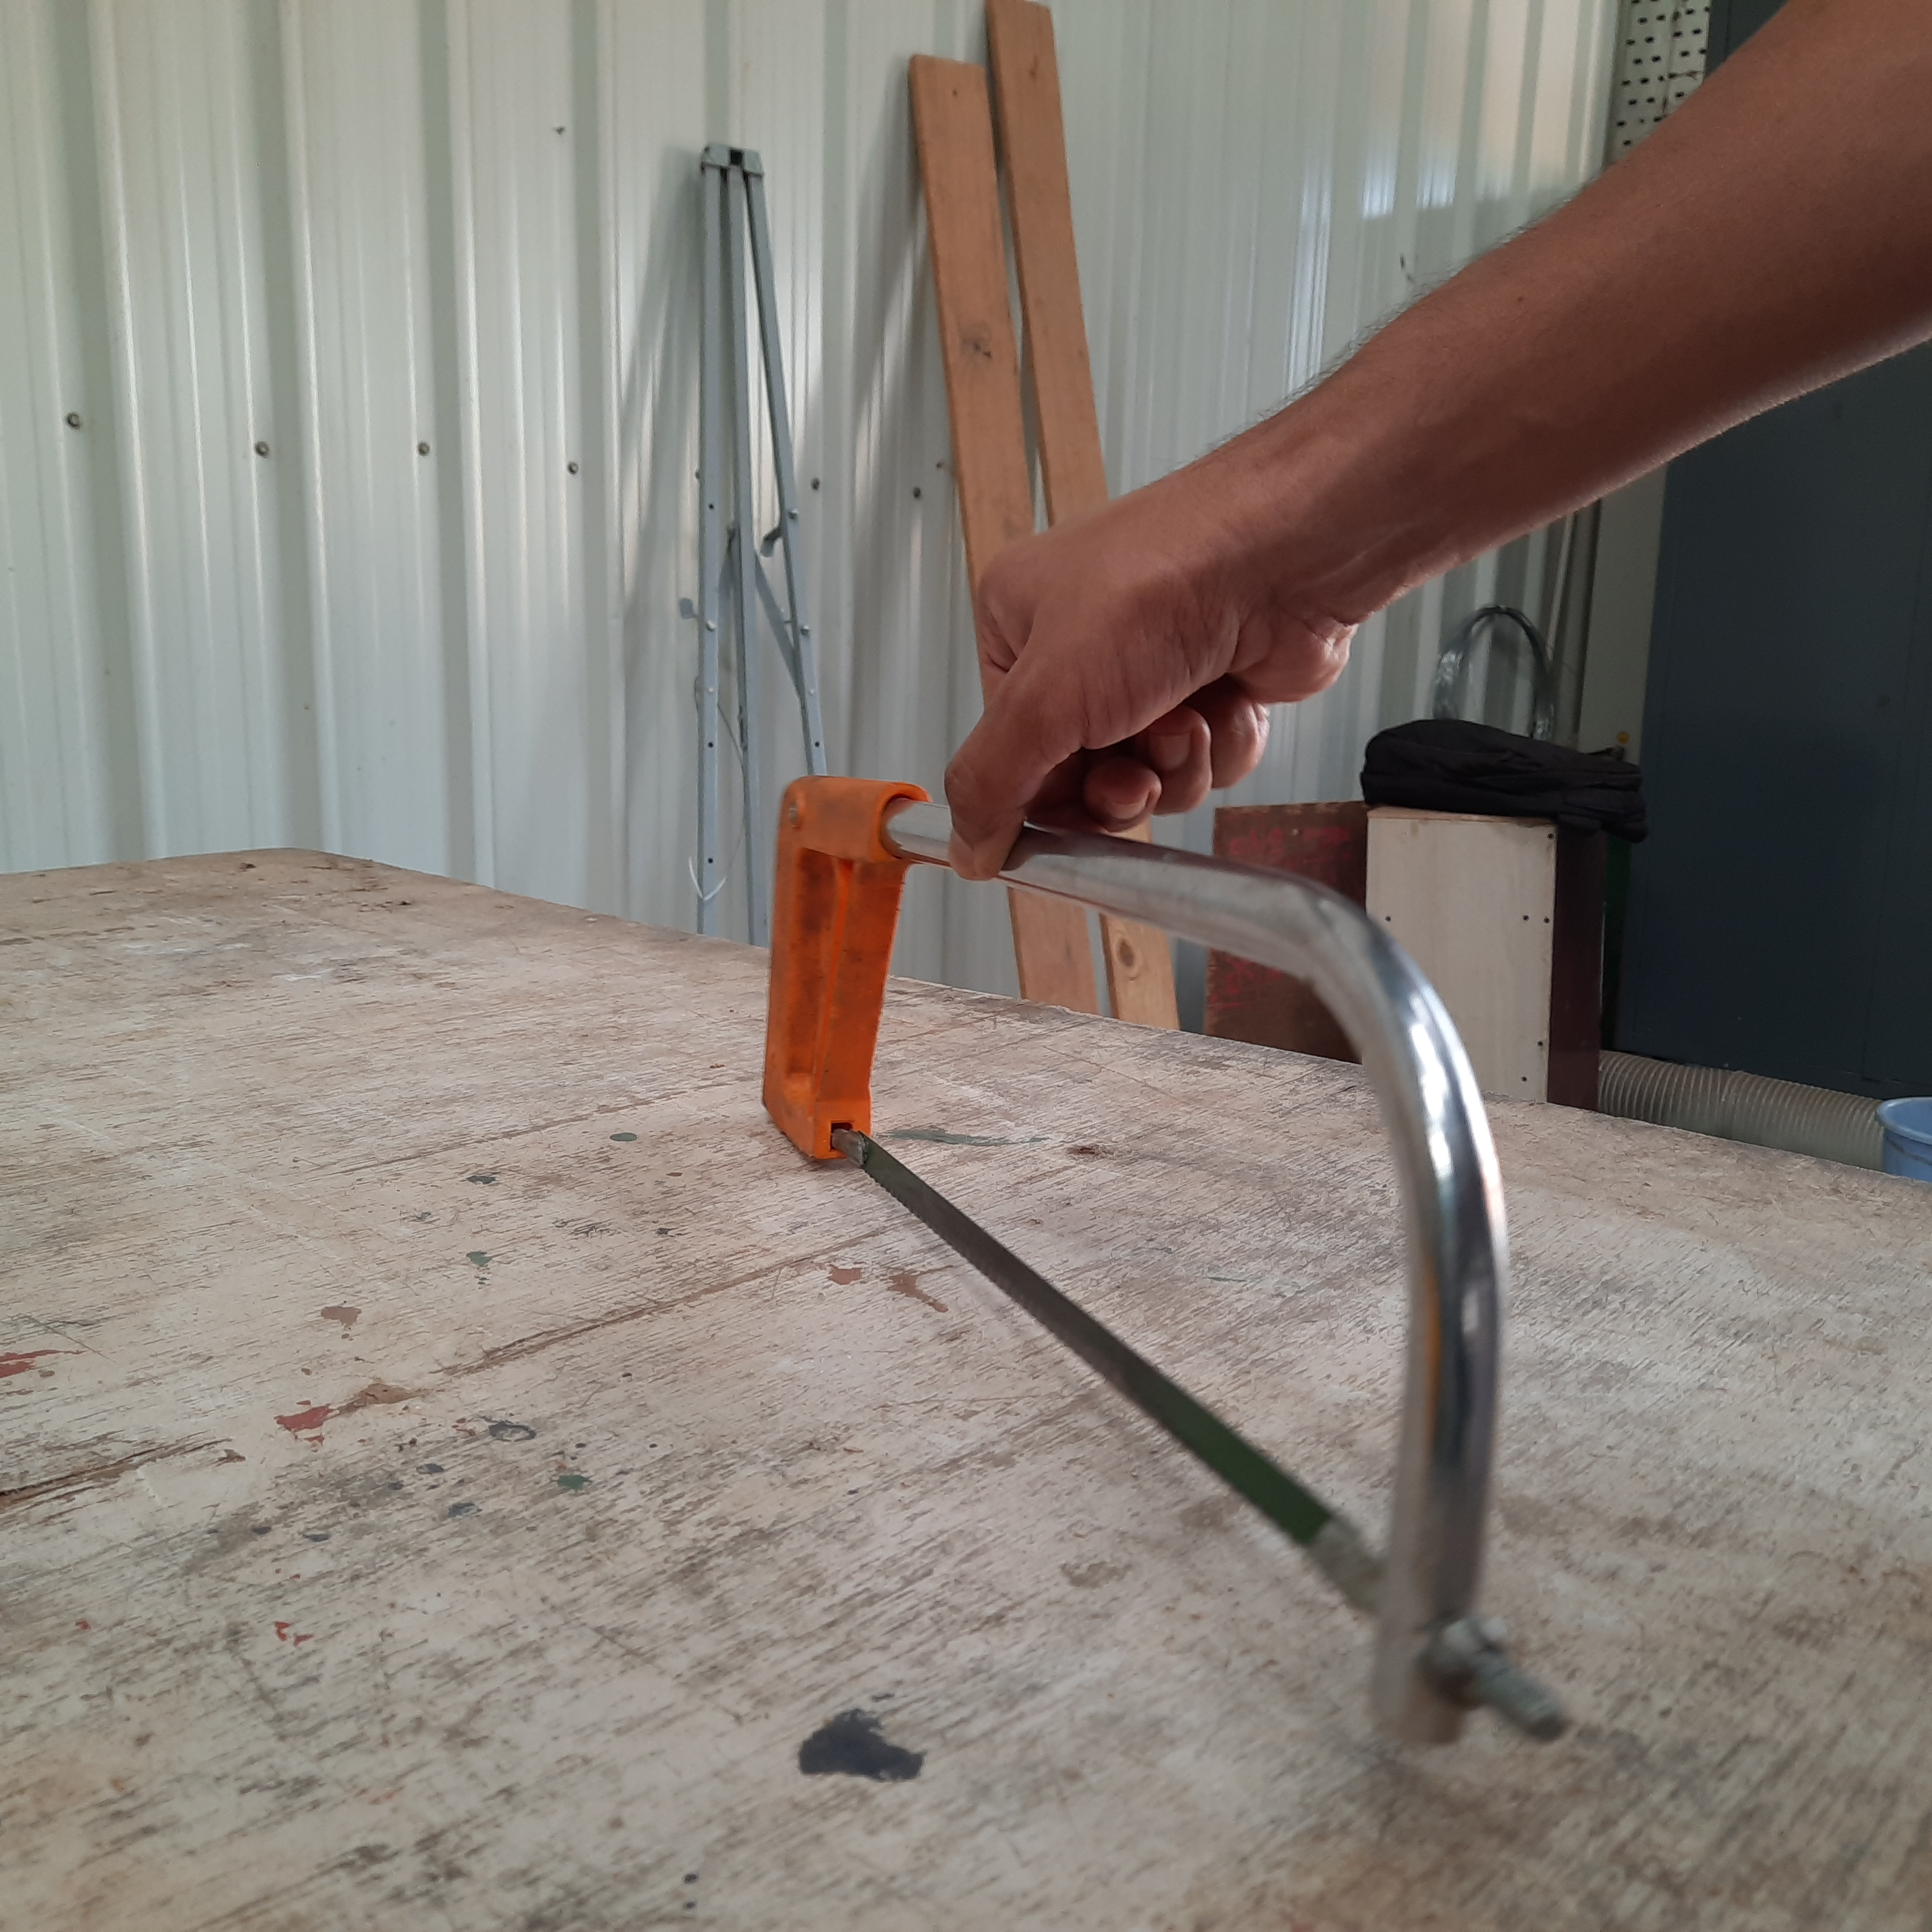Hexaframe: (722, 743, 1674, 1808)
